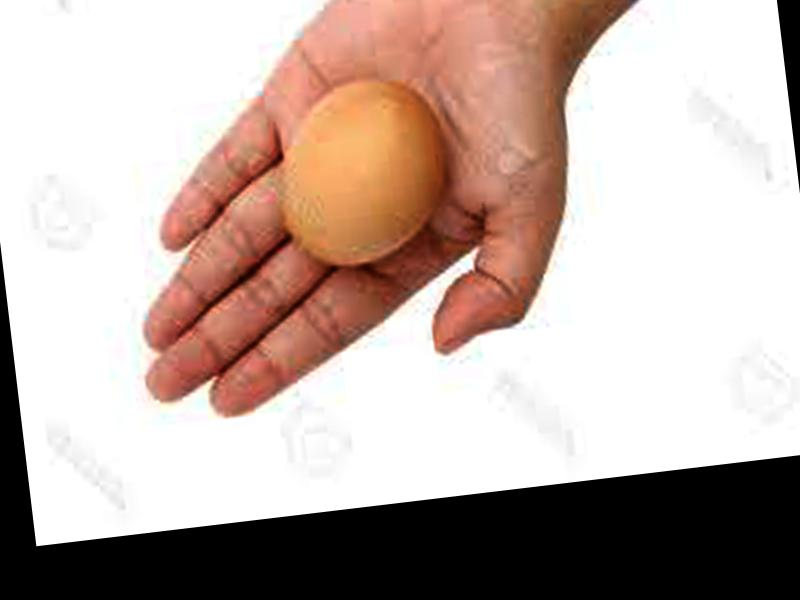Eggs: (272, 71, 458, 270)
